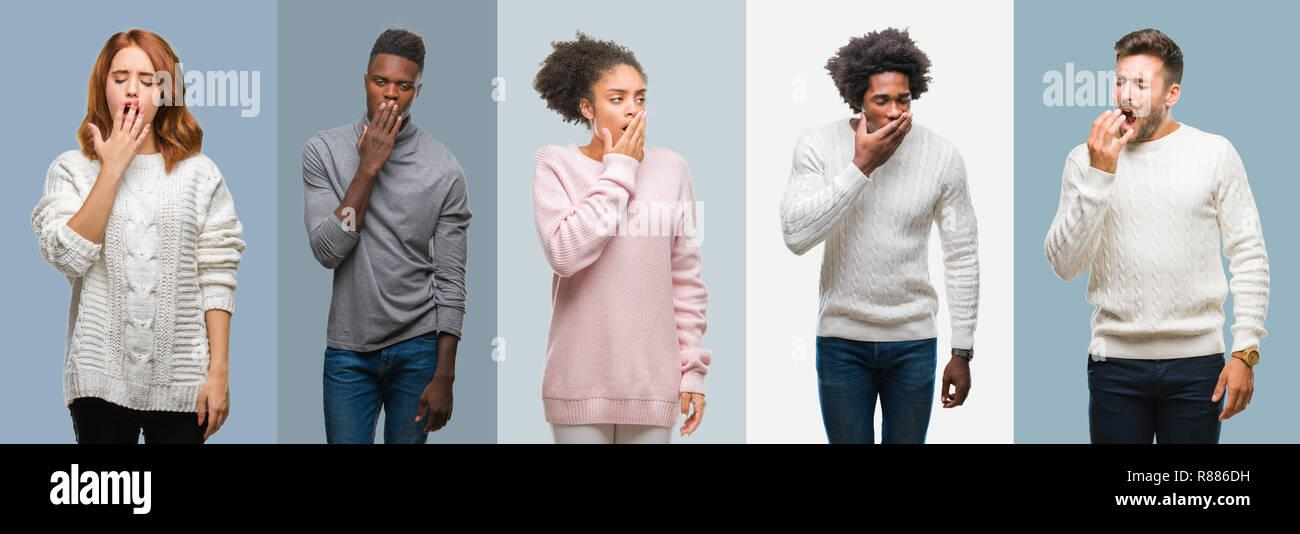long sleeve shirt: (298, 114, 475, 352)
sweater: (28, 142, 254, 414), (1041, 123, 1272, 363), (528, 137, 714, 430), (777, 114, 983, 352)
trousers: (1086, 348, 1228, 447), (320, 333, 444, 446), (813, 333, 937, 444), (63, 389, 213, 450), (547, 416, 674, 445)
